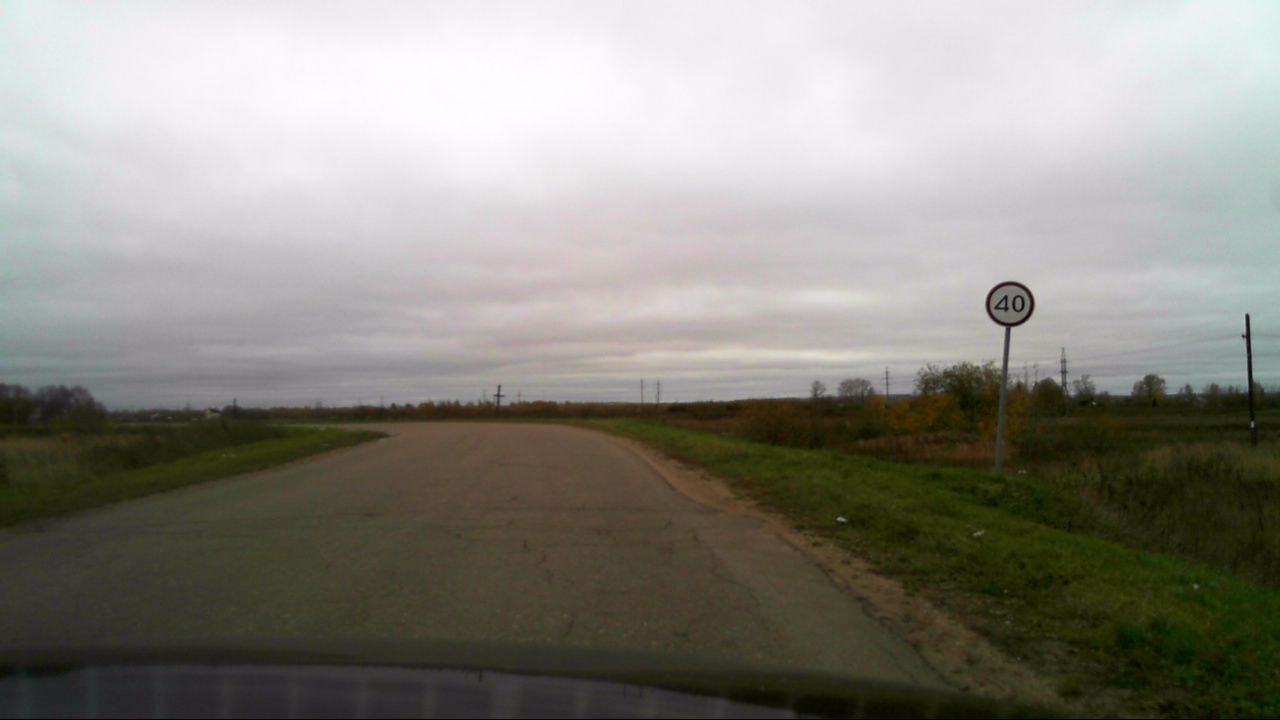speed_warning_40: (985, 280, 1035, 328)
